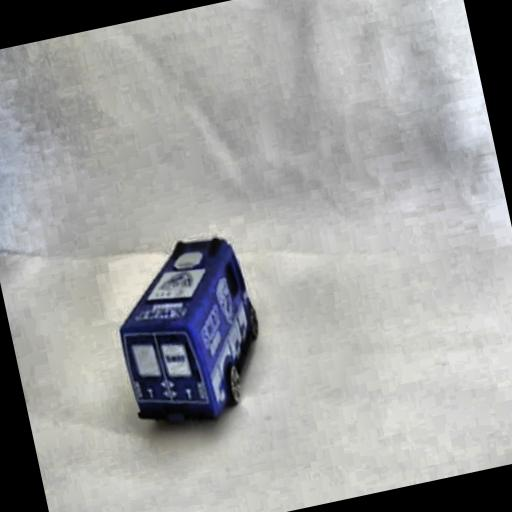police car: (98, 218, 280, 442)
